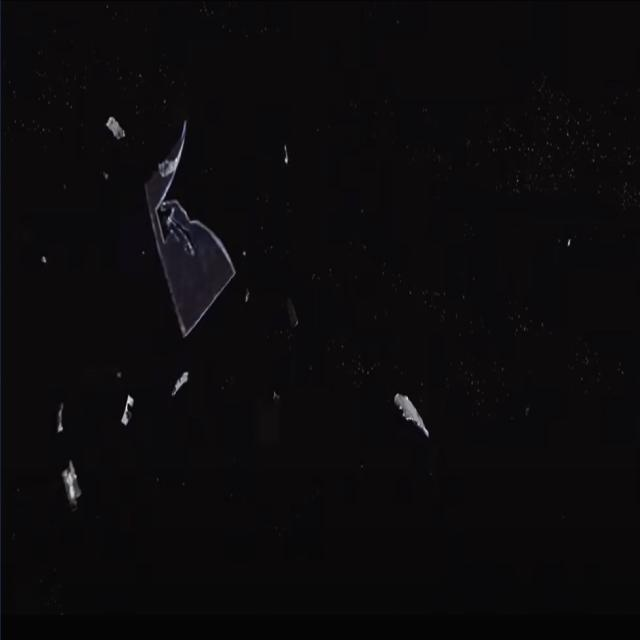large_debris: (138, 121, 248, 342), (382, 362, 432, 450), (156, 368, 191, 416), (108, 388, 134, 448), (60, 448, 82, 506), (106, 110, 124, 151)
